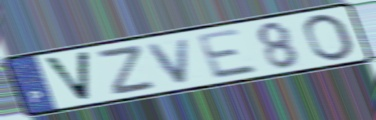8: (256, 20, 302, 70)
E: (193, 26, 262, 81)
O: (301, 12, 358, 64)
V: (40, 49, 93, 103), (145, 35, 194, 86)
Z: (97, 42, 159, 97)
